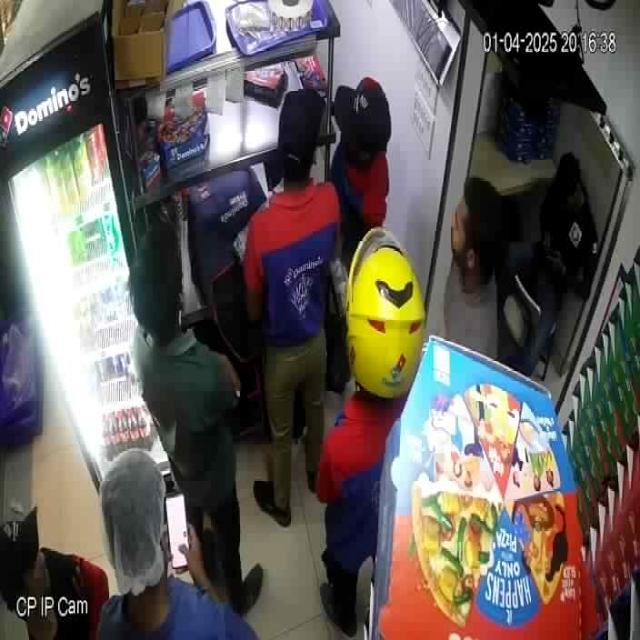helmet: (345, 226, 424, 400)
no_helmet: (102, 445, 171, 632), (128, 222, 181, 346), (449, 176, 506, 289), (278, 87, 324, 193), (334, 80, 391, 163)
